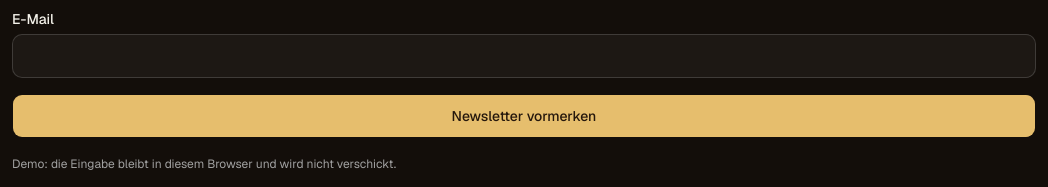
interactions › bestätigt das Formular ohne die Seite zu verlassen
Type "demo@esse.bar" into the field labelled "E-Mail" at (524, 56), box top-left (12, 34), bottom-right (1036, 78)
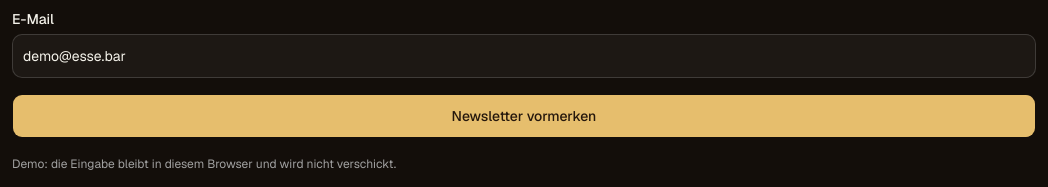
Click the button "Newsletter vormerken" at (524, 116), box top-left (12, 94), bottom-right (1036, 138)
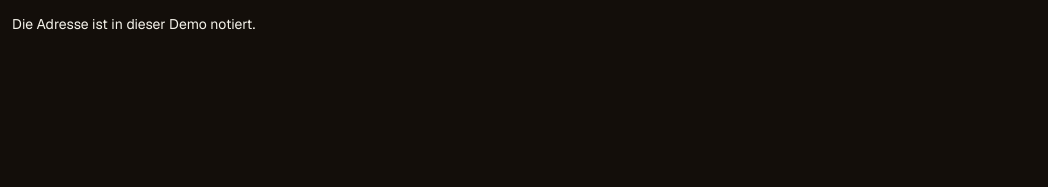
Check: the message shows "notiert", box top-left (12, 15), bottom-right (255, 33)
